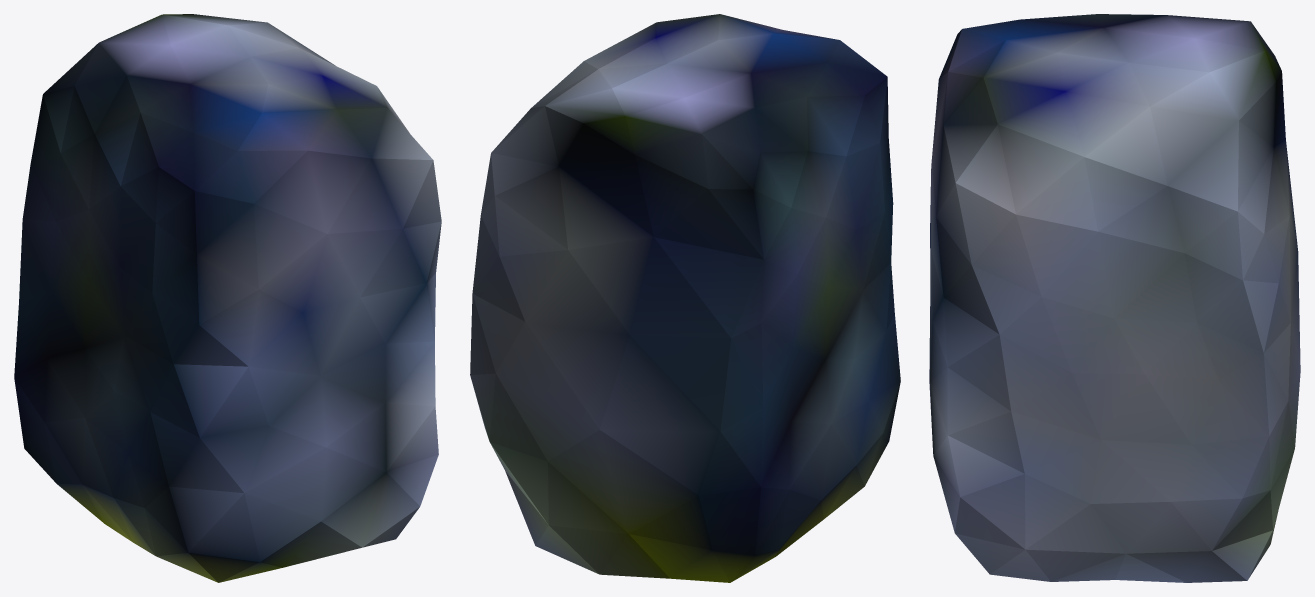
The model's file is amd-box.dae.
The picture shows the model from 3 angles, left to right: view 1: azimuth 30°, elevation 25°; view 2: azimuth 150°, elevation 25°; view 3: azimuth 270°, elevation 25°; orthographic projection. The views are drawn at different scales.
Parts seen in each view (by area): view 1: node; view 2: node; view 3: node.
Part boxes in pixels (x1,y1,x2,y2): node: (14,14,441,582); node: (470,14,900,582); node: (929,14,1300,582).
Bounding box in the file's own units: 0.0886 × 0.1326 × 0.0919.
